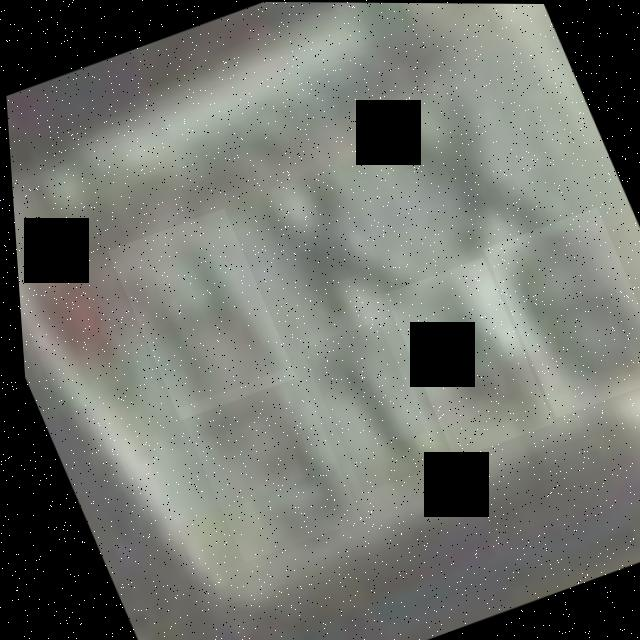1: (296, 320, 436, 493)
4: (378, 256, 550, 459)
8: (478, 205, 640, 418)
9: (171, 364, 357, 563)
B: (102, 207, 294, 421)
X: (353, 65, 551, 277)
